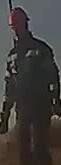gloves: (0, 101, 11, 135), (50, 106, 61, 130)
helmet: (7, 7, 30, 26)
vest: (1, 37, 59, 117)
